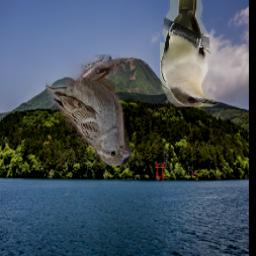Cuckoo: (160, 0, 219, 107)
Sparrow: (47, 54, 133, 166)
